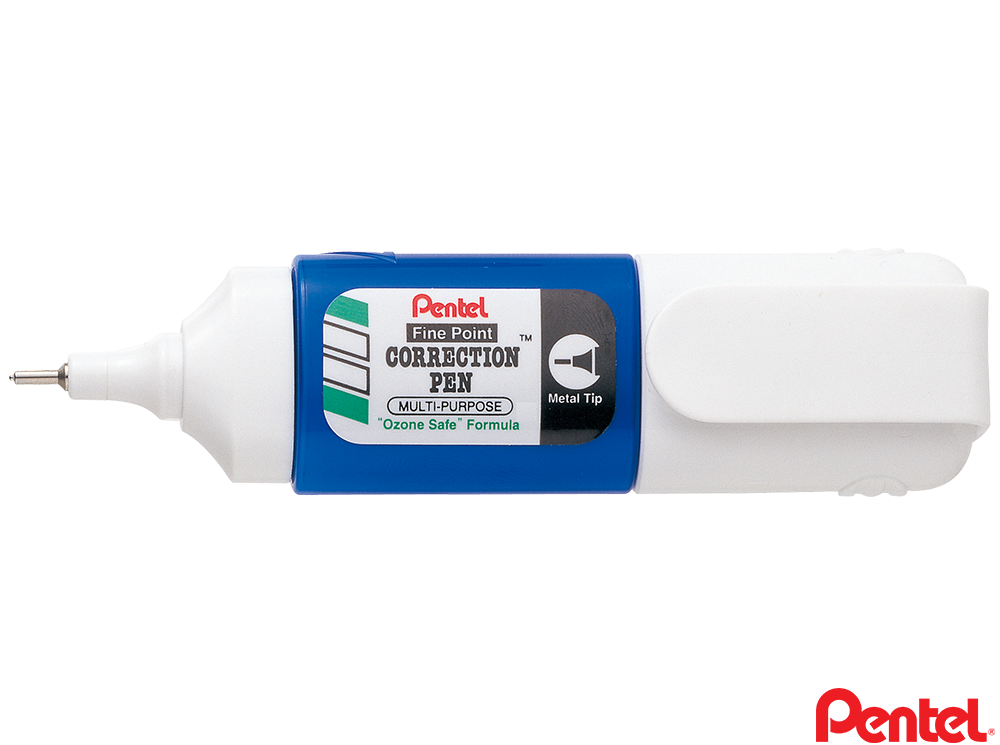Correction_fluid: (2, 246, 1000, 508)
